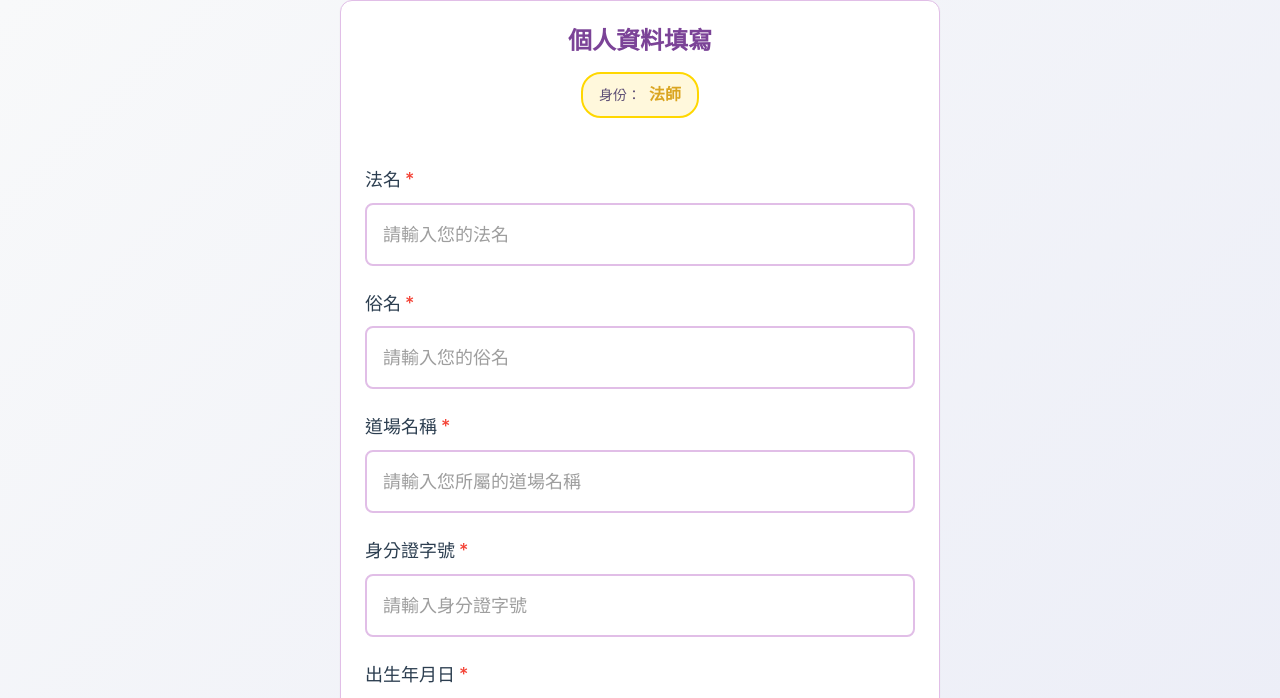
Test case: PersonalInfoForm › Auto-save Functionality › should show auto-save status
The width and height of the screenshot is (1280, 698).
Type "王小明" into the field labelled "俗名*" at [640, 358], box [365,326,915,389]
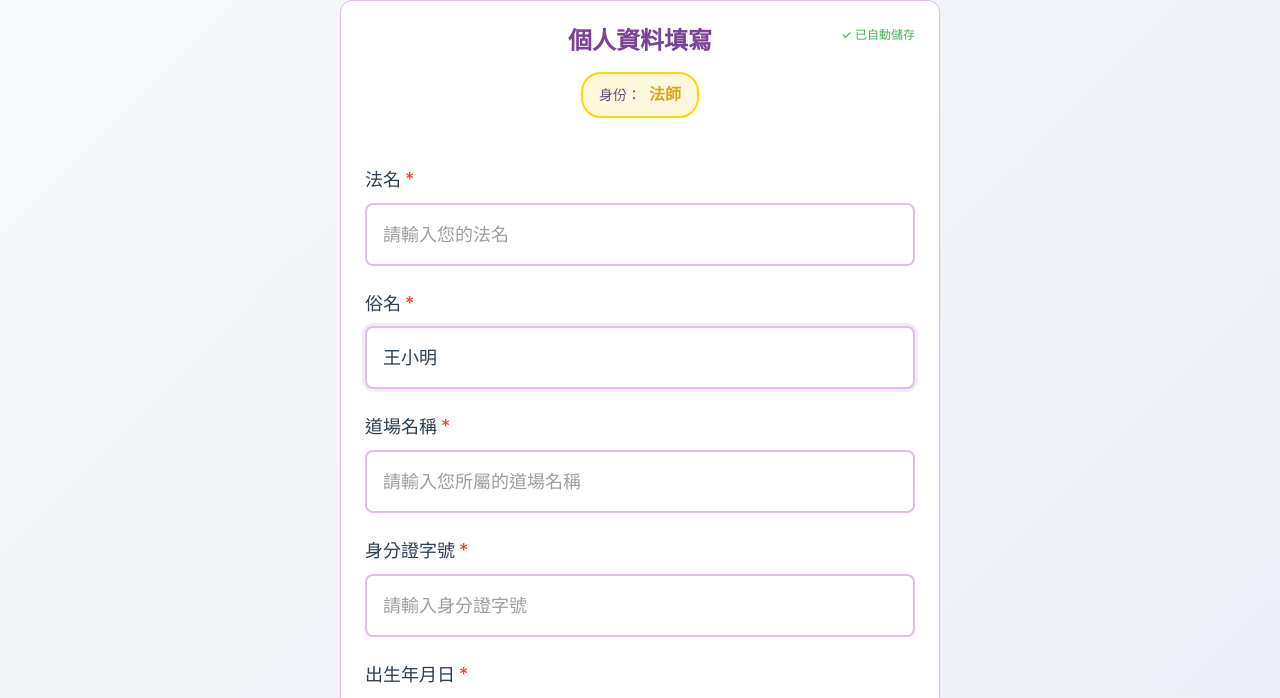
Expected: the text "✓ 已自動儲存" is shown, [841,27,915,42]
